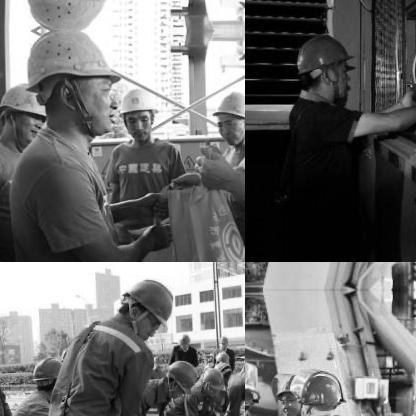Helmet: (21, 31, 123, 132), (113, 270, 181, 338), (293, 27, 353, 97), (0, 73, 51, 148), (20, 0, 124, 28), (113, 84, 161, 140), (206, 82, 244, 145), (297, 369, 345, 415), (273, 372, 307, 416), (30, 350, 62, 396), (162, 356, 196, 396), (197, 366, 221, 392), (214, 361, 232, 377), (215, 332, 229, 348), (176, 332, 188, 348)
